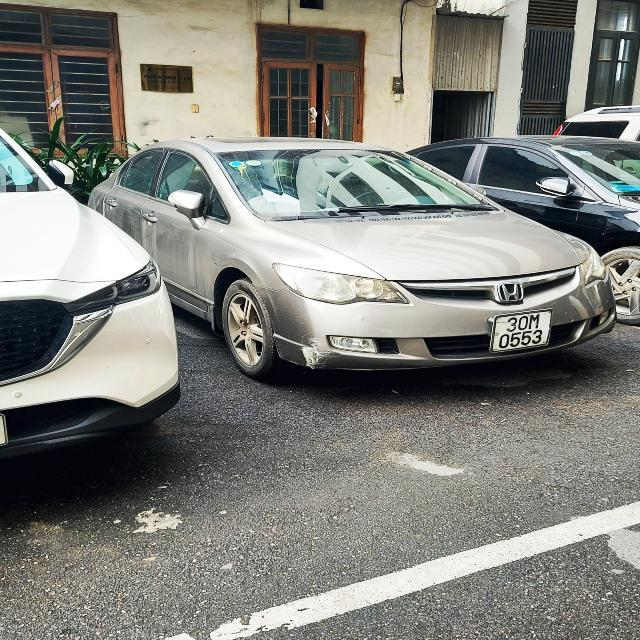license_plate: (492, 310, 553, 353)
